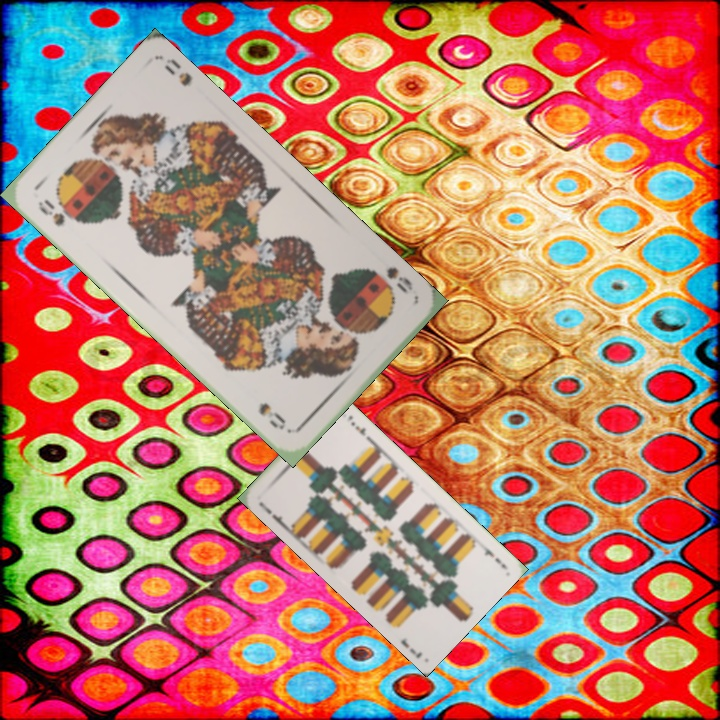E7: (254, 498, 288, 529), (476, 538, 508, 570)
SO: (34, 195, 75, 229), (382, 263, 416, 296)
